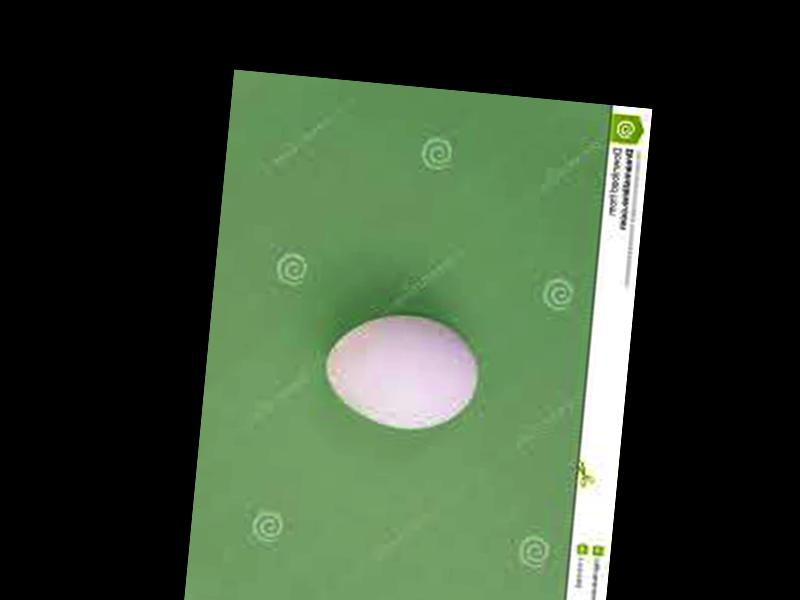Eggs: (323, 307, 482, 433)
